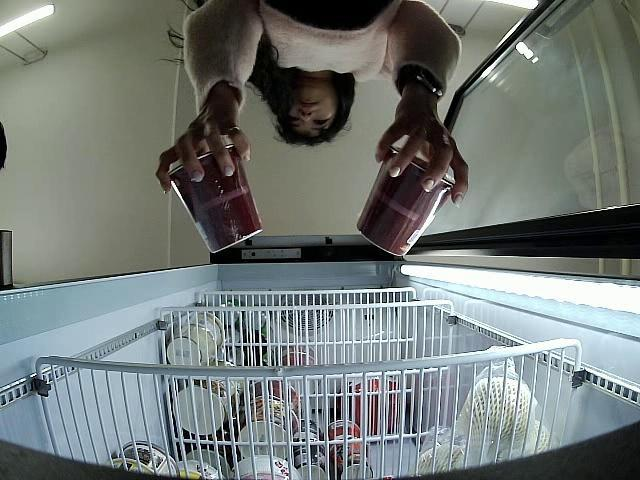06_nuguri_S: (354, 147, 455, 259), (166, 145, 262, 255)
